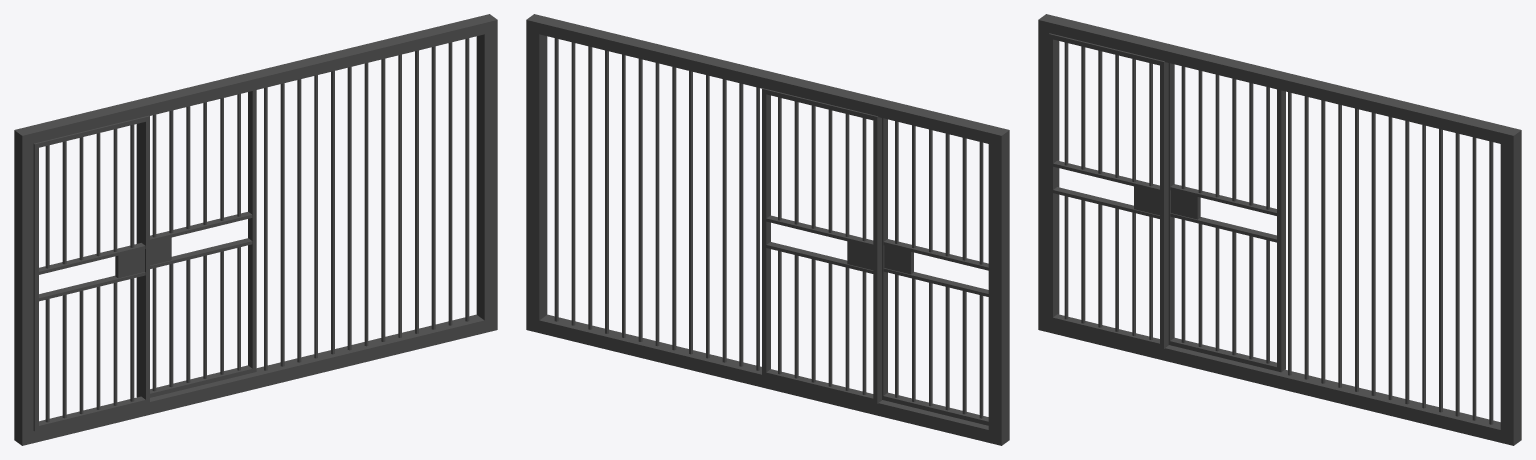
Rendered from Door_02.fbx.
3 views of the same model, side by side, from view 1: azimuth 30°, elevation 25°; view 2: azimuth 150°, elevation 25°; view 3: azimuth 330°, elevation 25° (orthographic).
Parts seen in each view (by area): view 1: Door_02; view 2: Door_02; view 3: Door_02.
Part boxes in pixels (x1=…): Door_02: x1=14, y1=14, x2=497, y2=445; Door_02: x1=526, y1=14, x2=1009, y2=445; Door_02: x1=1038, y1=14, x2=1521, y2=445.
Size of the model in its own units: 368 by 229 by 13.26.
Materials: 1 (1 with a texture image).
